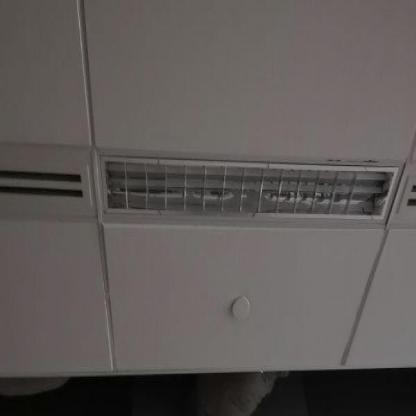light_off: (89, 125, 402, 241)
